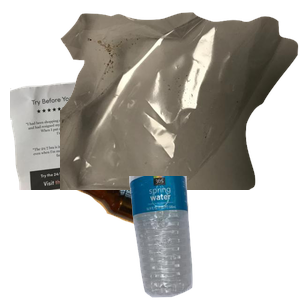glass: (60, 166, 241, 300)
paper: (10, 61, 250, 241)
plastic: (127, 176, 300, 300)
trash: (60, 10, 300, 190)
